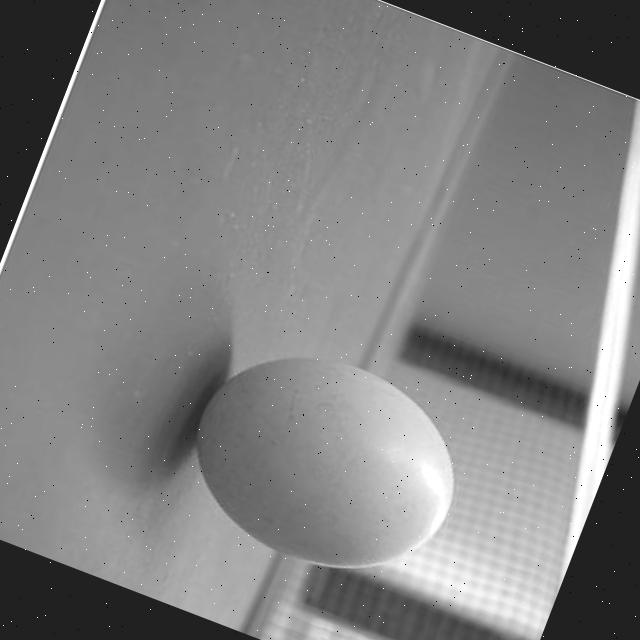ping-pong-ball: (158, 316, 490, 609)
